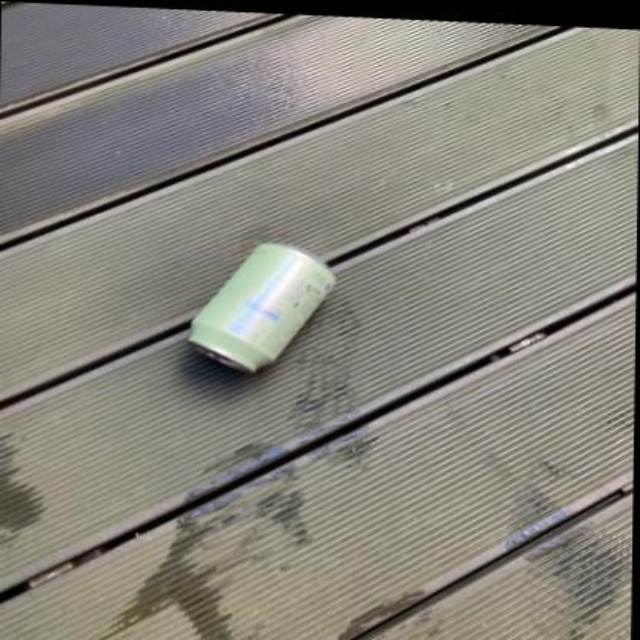trash: (189, 243, 334, 371)
